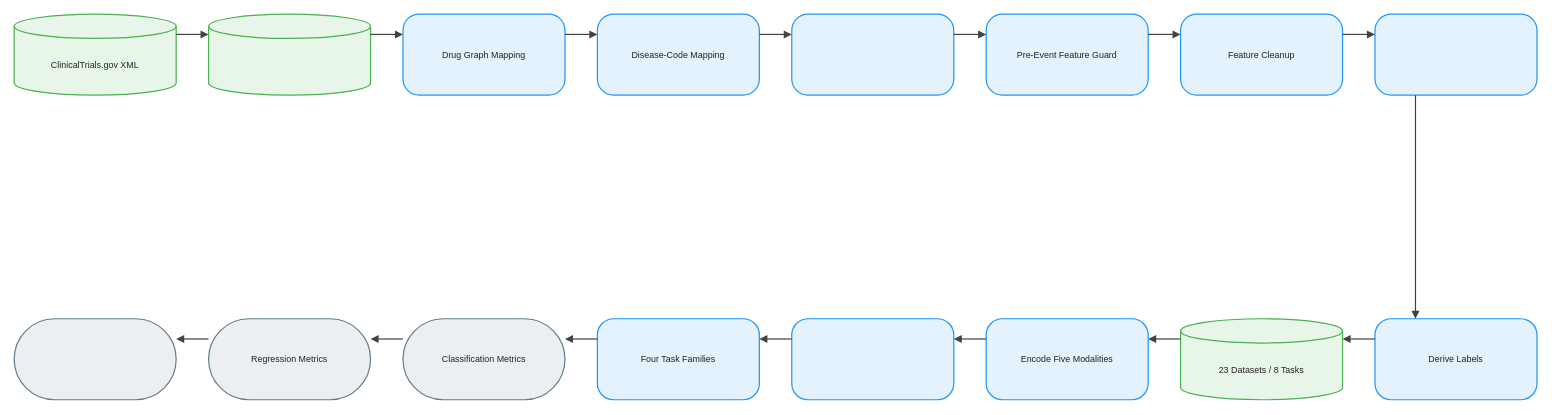
This 1552x415 diagram has some shape labels left out. The centre of each missing label's shape, as x and y in pixels:
"Eligibility Filters" belongs at [1455,54].
"External Clinical Sources" belongs at [289,54].
"Generation Metrics" belongs at [94,359].
"NCT Outcome Links" belongs at [872,54].
"Task-Specific Fusion" belongs at [872,359].
